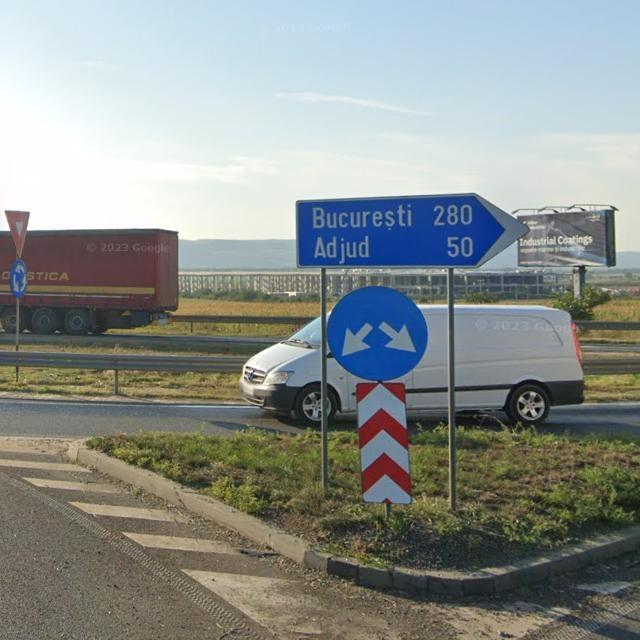prio_give_way: (5, 210, 31, 260)
